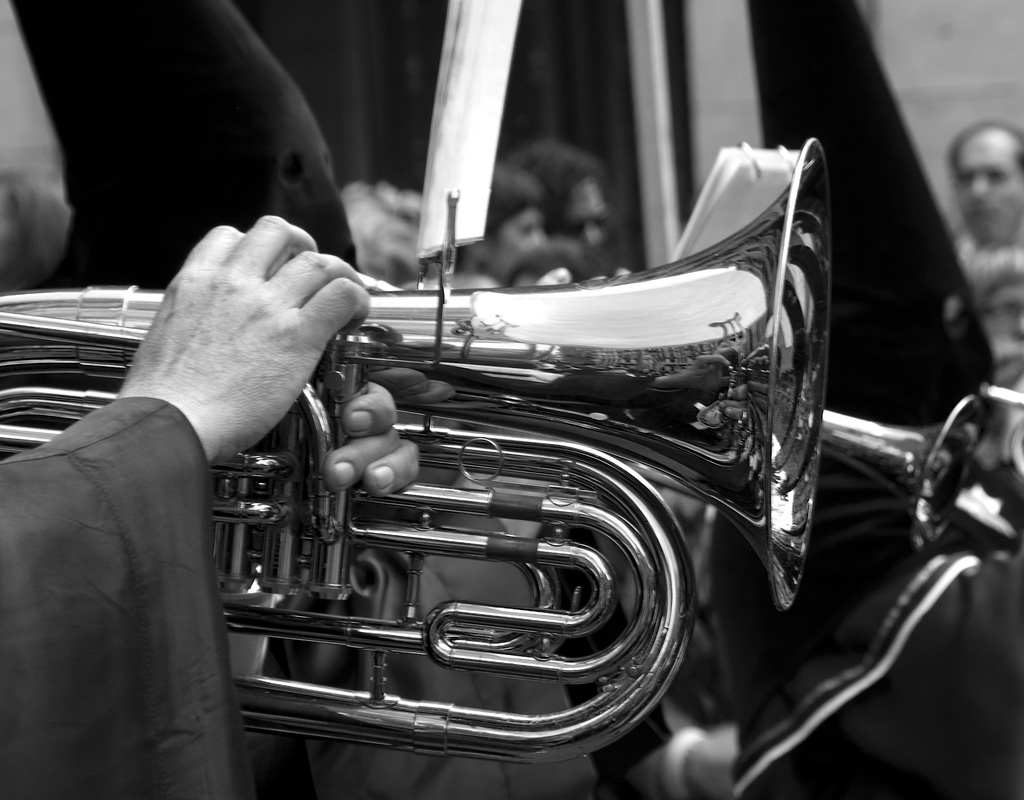Human_hand: (122, 215, 371, 446), (321, 382, 418, 499)
